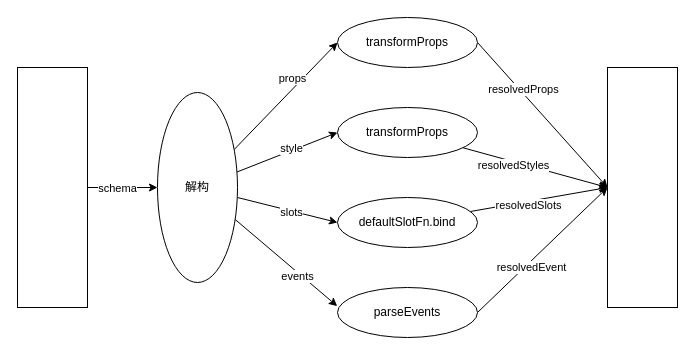
The diagram is 695 pixels wide and 355 high, and some of its shapes have lost their labels. Each missing label, with the box of its shape:
组件: (606, 66, 678, 308)
输入: (16, 66, 88, 308)
